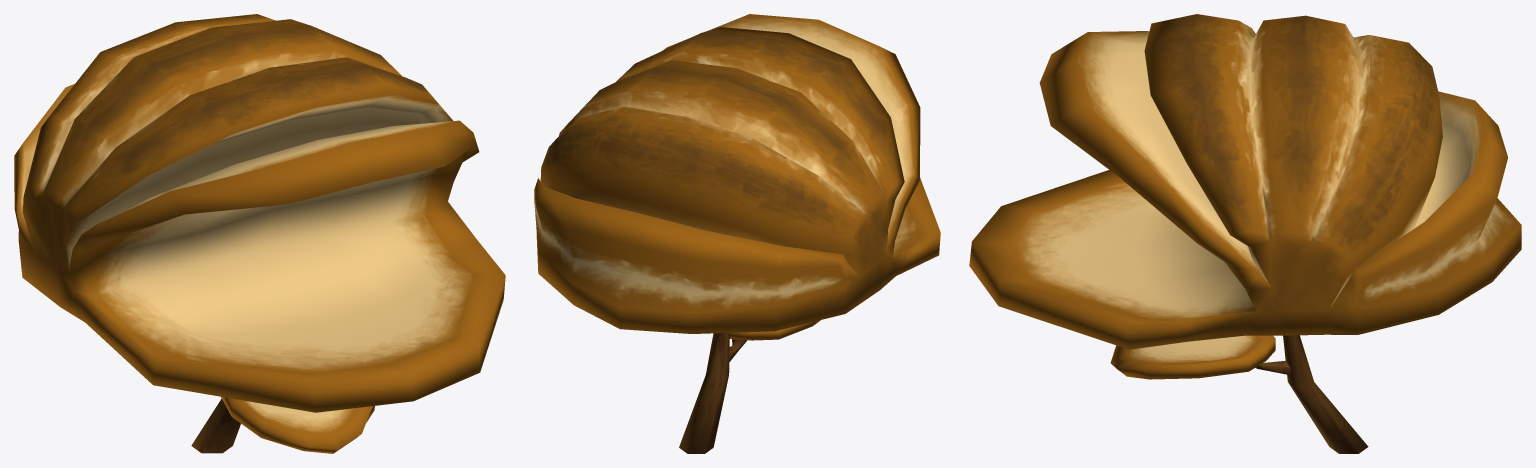
File: big_loaf_tree 1.fbx
3 renders of one model, left to right at view 1: azimuth 30°, elevation 25°; view 2: azimuth 150°, elevation 25°; view 3: azimuth 270°, elevation 25°, orthographic. The views are drawn at different scales.
Visible parts, largest first — view 1: Big bread, Small bread, Trunk; view 2: Big bread, Trunk, Small bread; view 3: Big bread, Small bread, Trunk.
Part boxes in pixels (x1=…): Big bread: x1=14, y1=14, x2=505, y2=412; Small bread: x1=221, y1=396, x2=374, y2=453; Trunk: x1=191, y1=398, x2=240, y2=453; Big bread: x1=534, y1=14, x2=940, y2=333; Trunk: x1=679, y1=333, x2=729, y2=453; Small bread: x1=729, y1=320, x2=820, y2=340; Big bread: x1=969, y1=14, x2=1521, y2=349; Small bread: x1=1110, y1=335, x2=1275, y2=379; Trunk: x1=1283, y1=335, x2=1368, y2=453.
Bounding box in the file's own units: 601 × 658 × 813.
Materials: 6 (6 with a texture image).
